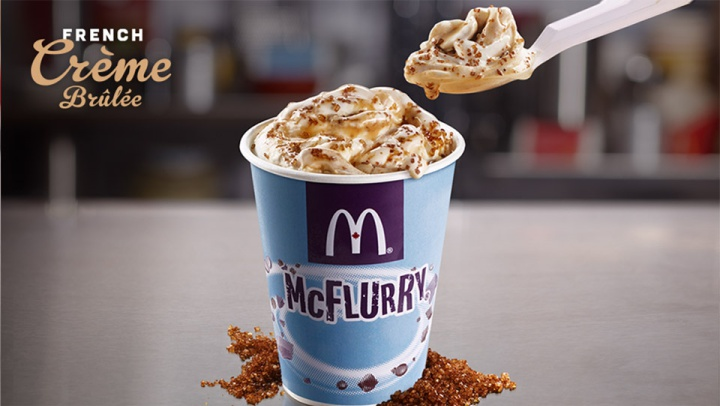mcdonalds: (319, 203, 391, 265)
